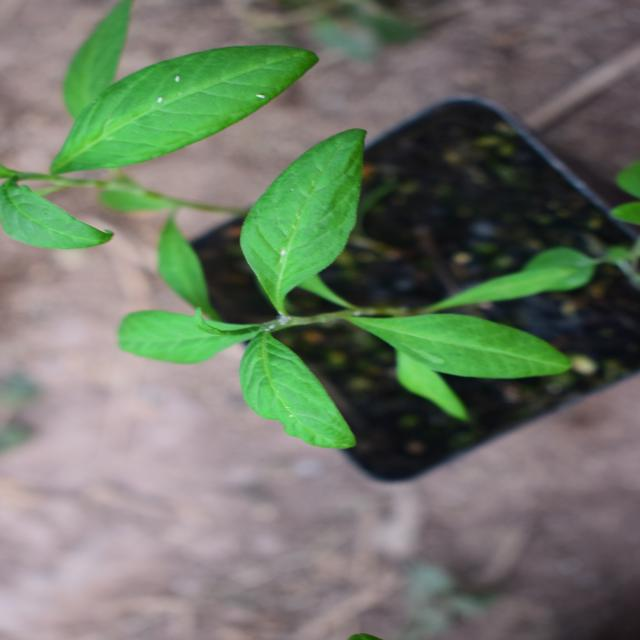white_smart_weed: (167, 122, 482, 541), (402, 0, 608, 292)
